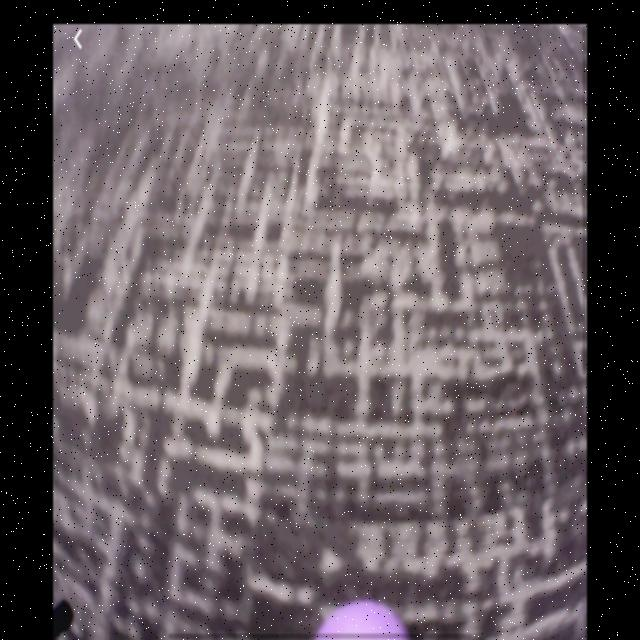ball: (313, 595, 409, 640)
